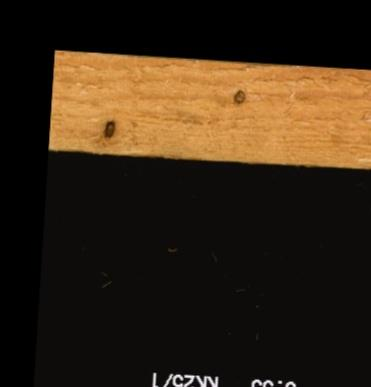dry_knot: (102, 118, 116, 140), (232, 88, 245, 105)
